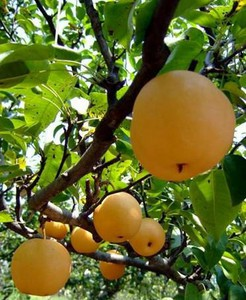pear: (131, 71, 234, 179), (12, 239, 72, 295), (94, 191, 141, 243), (128, 218, 166, 255), (99, 249, 126, 279), (71, 225, 99, 252), (44, 218, 71, 237)
